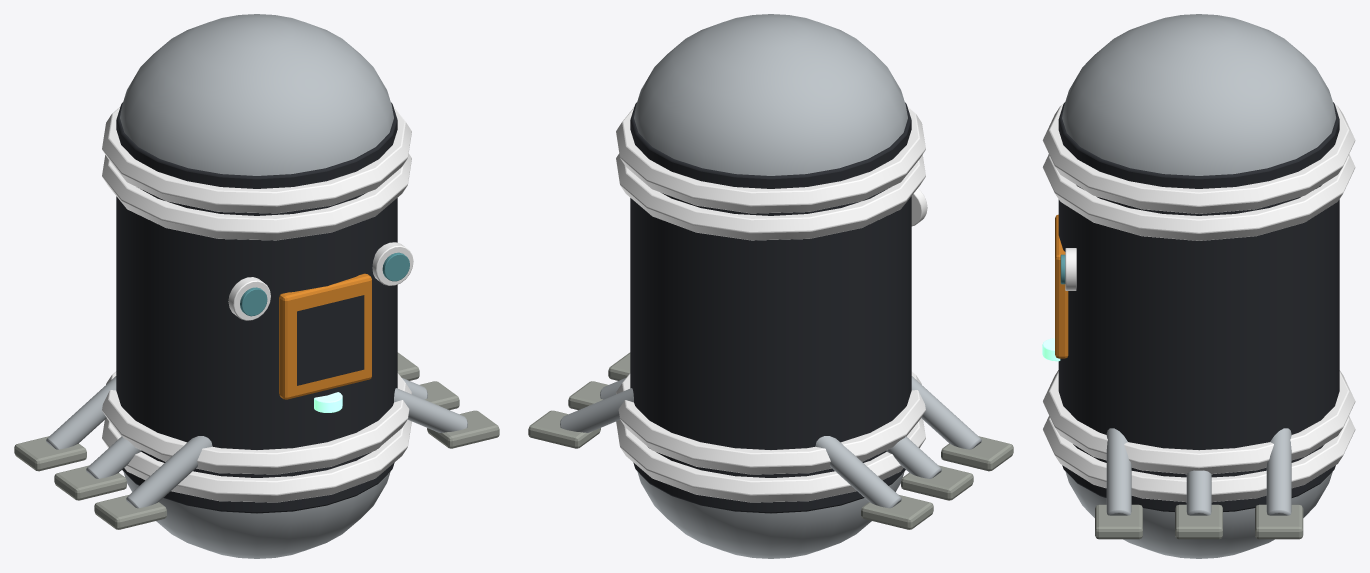
File: drop_pod.glb
3 views of the same model, side by side, from view 1: azimuth 30°, elevation 25°; view 2: azimuth 150°, elevation 25°; view 3: azimuth 270°, elevation 25° (orthographic).
Parts seen in each view (by area): view 1: Main_Body; view 2: Main_Body; view 3: Main_Body.
Boxes of the visible parts, x1,y1,x2,y2 form: Main_Body: (14,14,499,558); Main_Body: (528,14,1013,558); Main_Body: (1042,14,1355,558).
Size of the model in its own units: 3.88 by 4.95 by 2.74.
